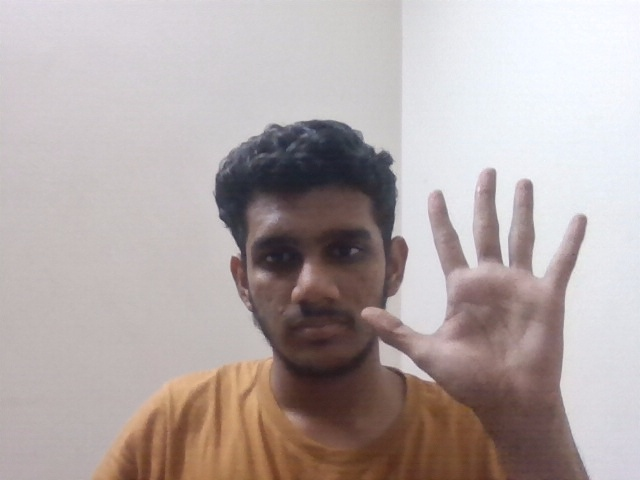hello: (360, 170, 625, 423)
